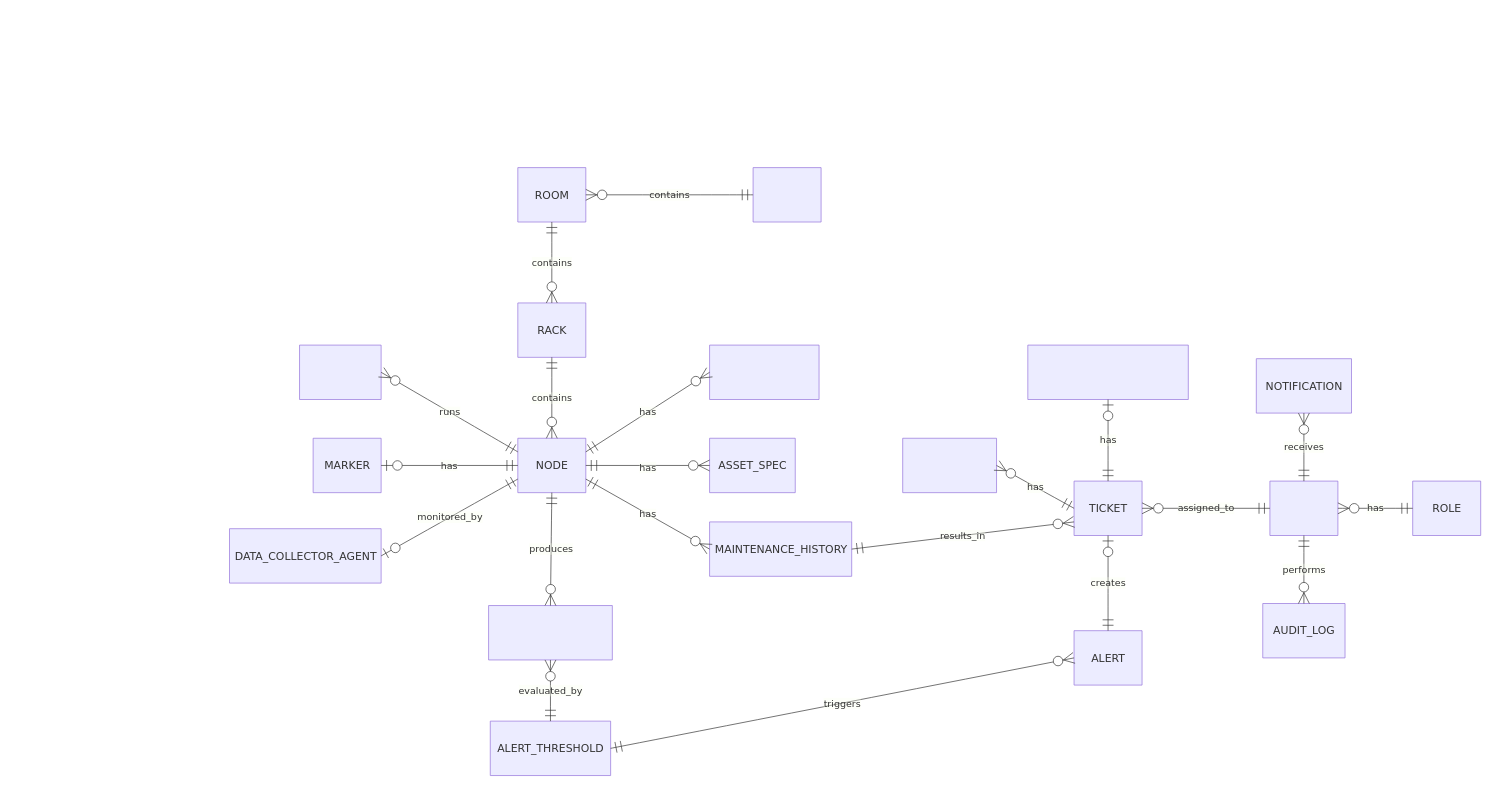
The diagram is 1493 pixels wide and 787 high, and some of its shapes have lost their labels. The shapes that lost their labels are listed below. From the top down, each one's centre as x and y in pixels, then its label:
At (786,194): "SITE".
At (340,372): "CONTAINER".
At (764,372): "WARRANTY_INFO".
At (1107,372): "TICKET_CLOSURE_REQUEST".
At (949,465): "TICKET_NOTE".
At (1303,508): "USER".
At (550,632): "TELEMETRY_METRIC".
